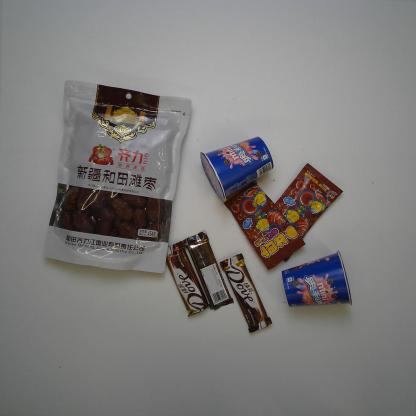Candy: (221, 179, 306, 272), (268, 159, 344, 263)
Chocolate: (180, 229, 236, 312), (222, 251, 274, 338), (162, 239, 214, 318)
Dessert: (197, 134, 275, 204), (280, 249, 354, 310)
Dried Food: (40, 76, 192, 277)
